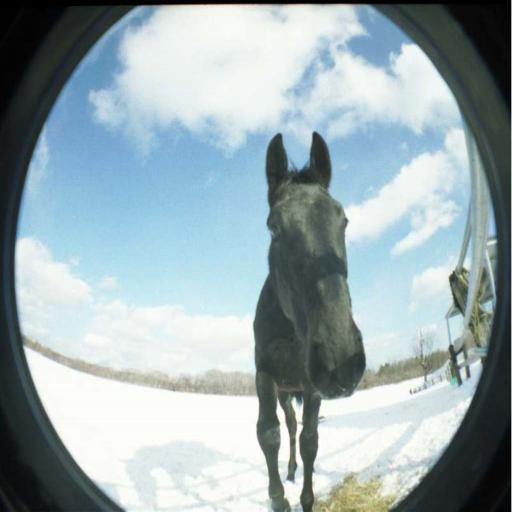horse: (254, 127, 367, 511)
